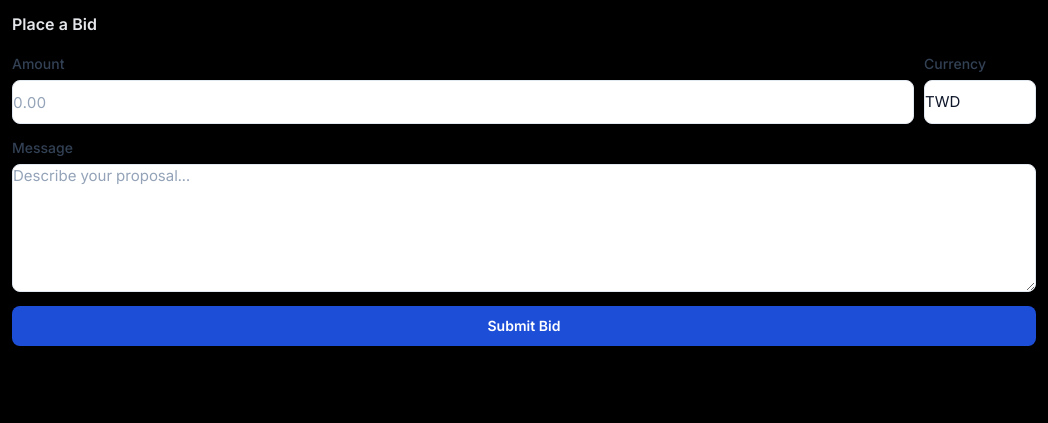
Scenario: BidForm › shows the "Amount is required" formError in the red alert box when amount is empty
The image size is (1048, 423).
Click the button "Submit Bid": (524, 326) [12,306,1036,346]
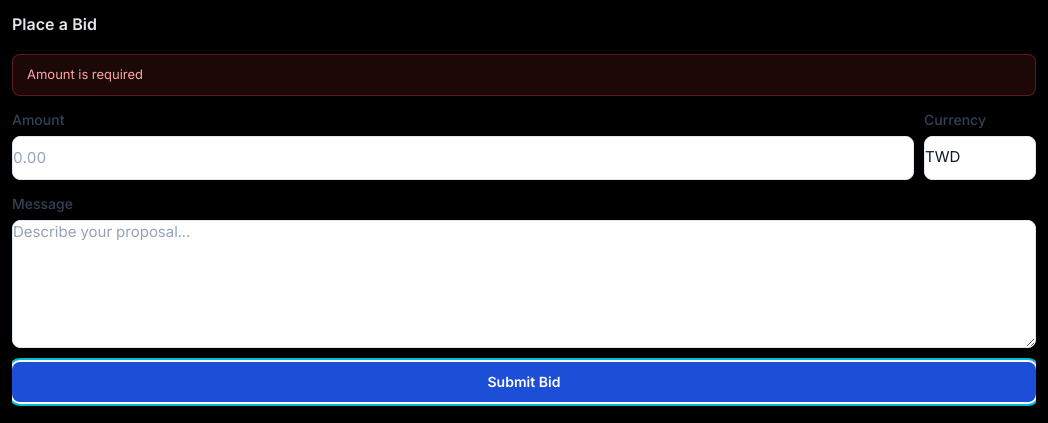
Expected: the message "Amount is required" is shown, [12,54,1036,96]
Expected: the message reads "Amount is required", [27,66,143,82]
